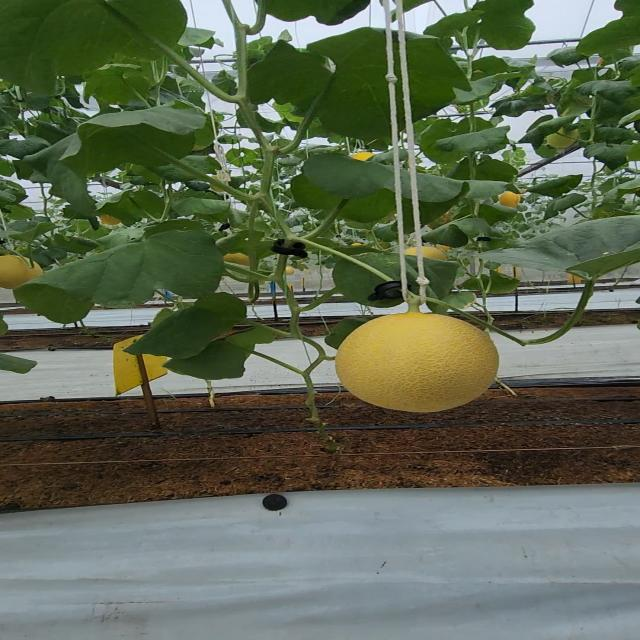Front-melon: (334, 314, 502, 414)
Rear-melon: (0, 258, 39, 284)
